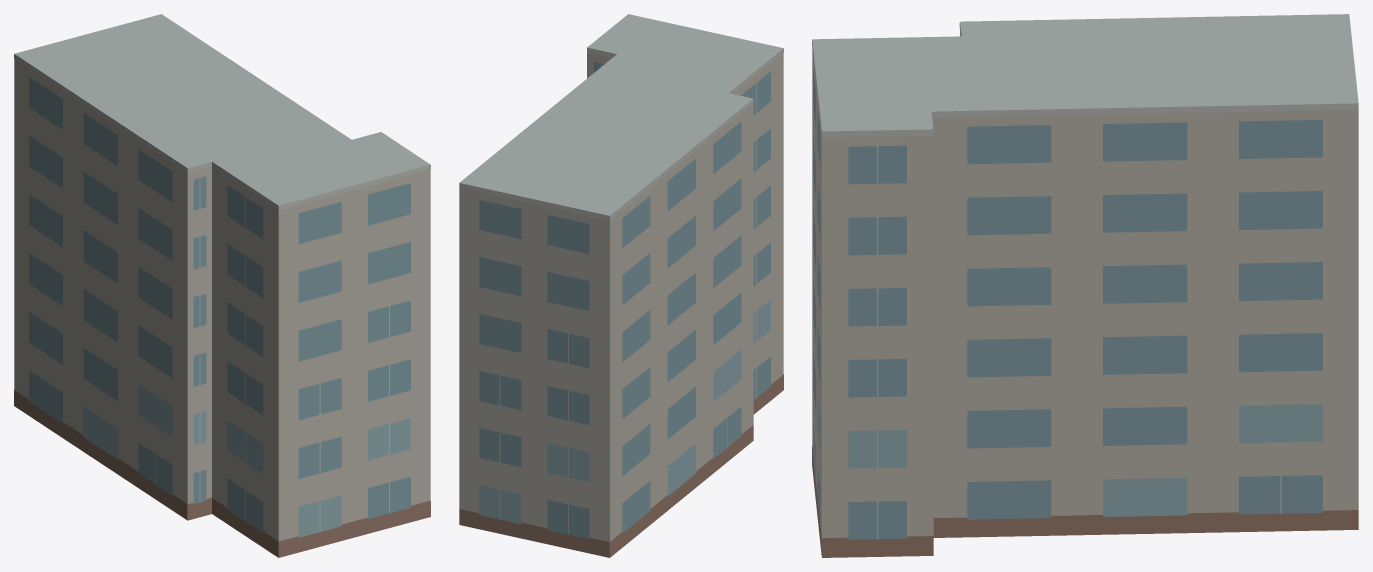
Rendered from survey-upis-32921977.glb.
3 renders of one model, left to right at view 1: azimuth 30°, elevation 25°; view 2: azimuth 150°, elevation 25°; view 3: azimuth 270°, elevation 25°, orthographic. The views are drawn at different scales.
Visible parts, largest first — view 1: survey-upis-32921977.tmp; view 2: survey-upis-32921977.tmp; view 3: survey-upis-32921977.tmp.
Boxes of the visible parts, x1=… form: survey-upis-32921977.tmp: x1=14, y1=14, x2=430, y2=557; survey-upis-32921977.tmp: x1=459, y1=14, x2=783, y2=557; survey-upis-32921977.tmp: x1=812, y1=14, x2=1358, y2=557.
Bounding box in the file's own units: 9.87 × 16.7 × 19.41.
